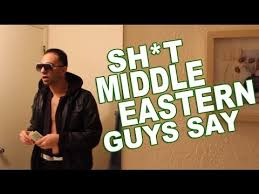middle_eastern_male: (38, 51, 60, 88)
